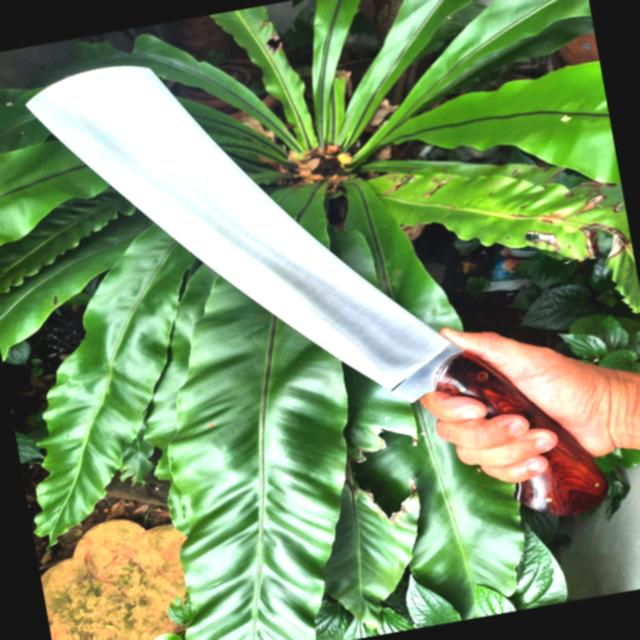eto: (9, 56, 622, 521)
